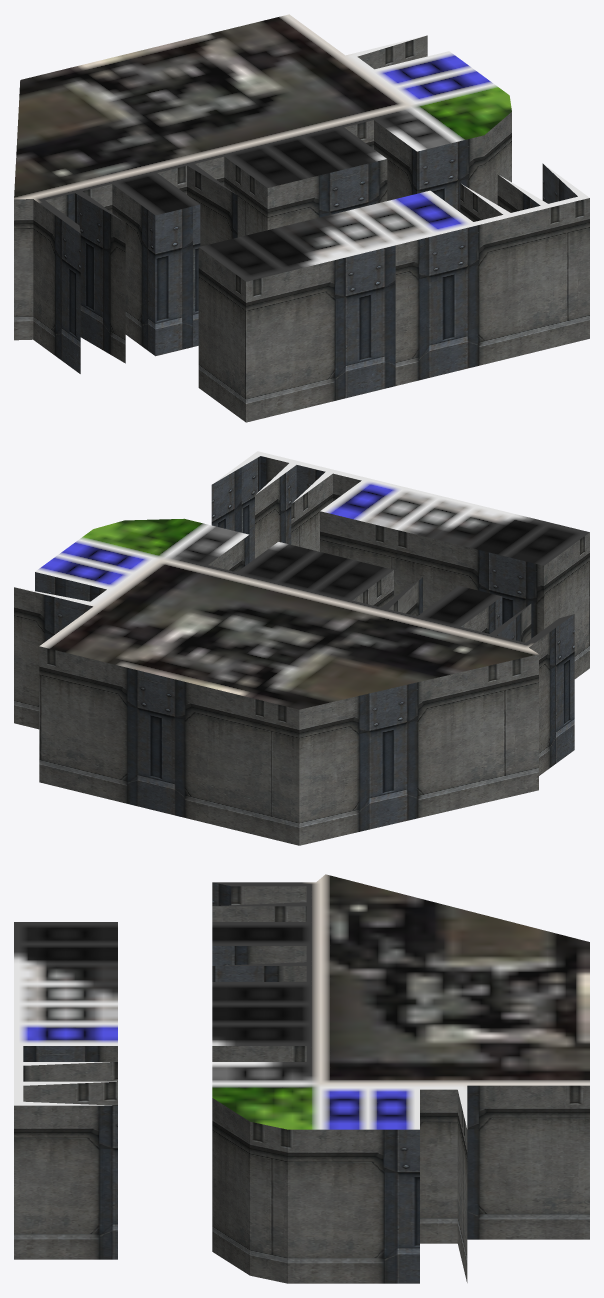
File: BuildingSystem-03-Advance-03-Heavy-A-88-04.glb
3 renders of one model, top to bottom at view 1: azimuth 30°, elevation 25°; view 2: azimuth 150°, elevation 25°; view 3: azimuth 270°, elevation 25°, orthographic. The views are drawn at different scales.
Visible parts, largest first — view 1: buildings/saxarba/SMV_Buildings/BuildingSystem-03-Advance-03; view 2: buildings/saxarba/SMV_Buildings/BuildingSystem-03-Advance-03; view 3: buildings/saxarba/SMV_Buildings/BuildingSystem-03-Advance-03.
Boxes of the visible parts, box(x1,y1,x2,y2) form: buildings/saxarba/SMV_Buildings/BuildingSystem-03-Advance-03: box(14, 14, 589, 422); buildings/saxarba/SMV_Buildings/BuildingSystem-03-Advance-03: box(14, 451, 589, 845); buildings/saxarba/SMV_Buildings/BuildingSystem-03-Advance-03: box(14, 874, 589, 1283).
Size of the model in its own units: 64 by 18 by 61.
